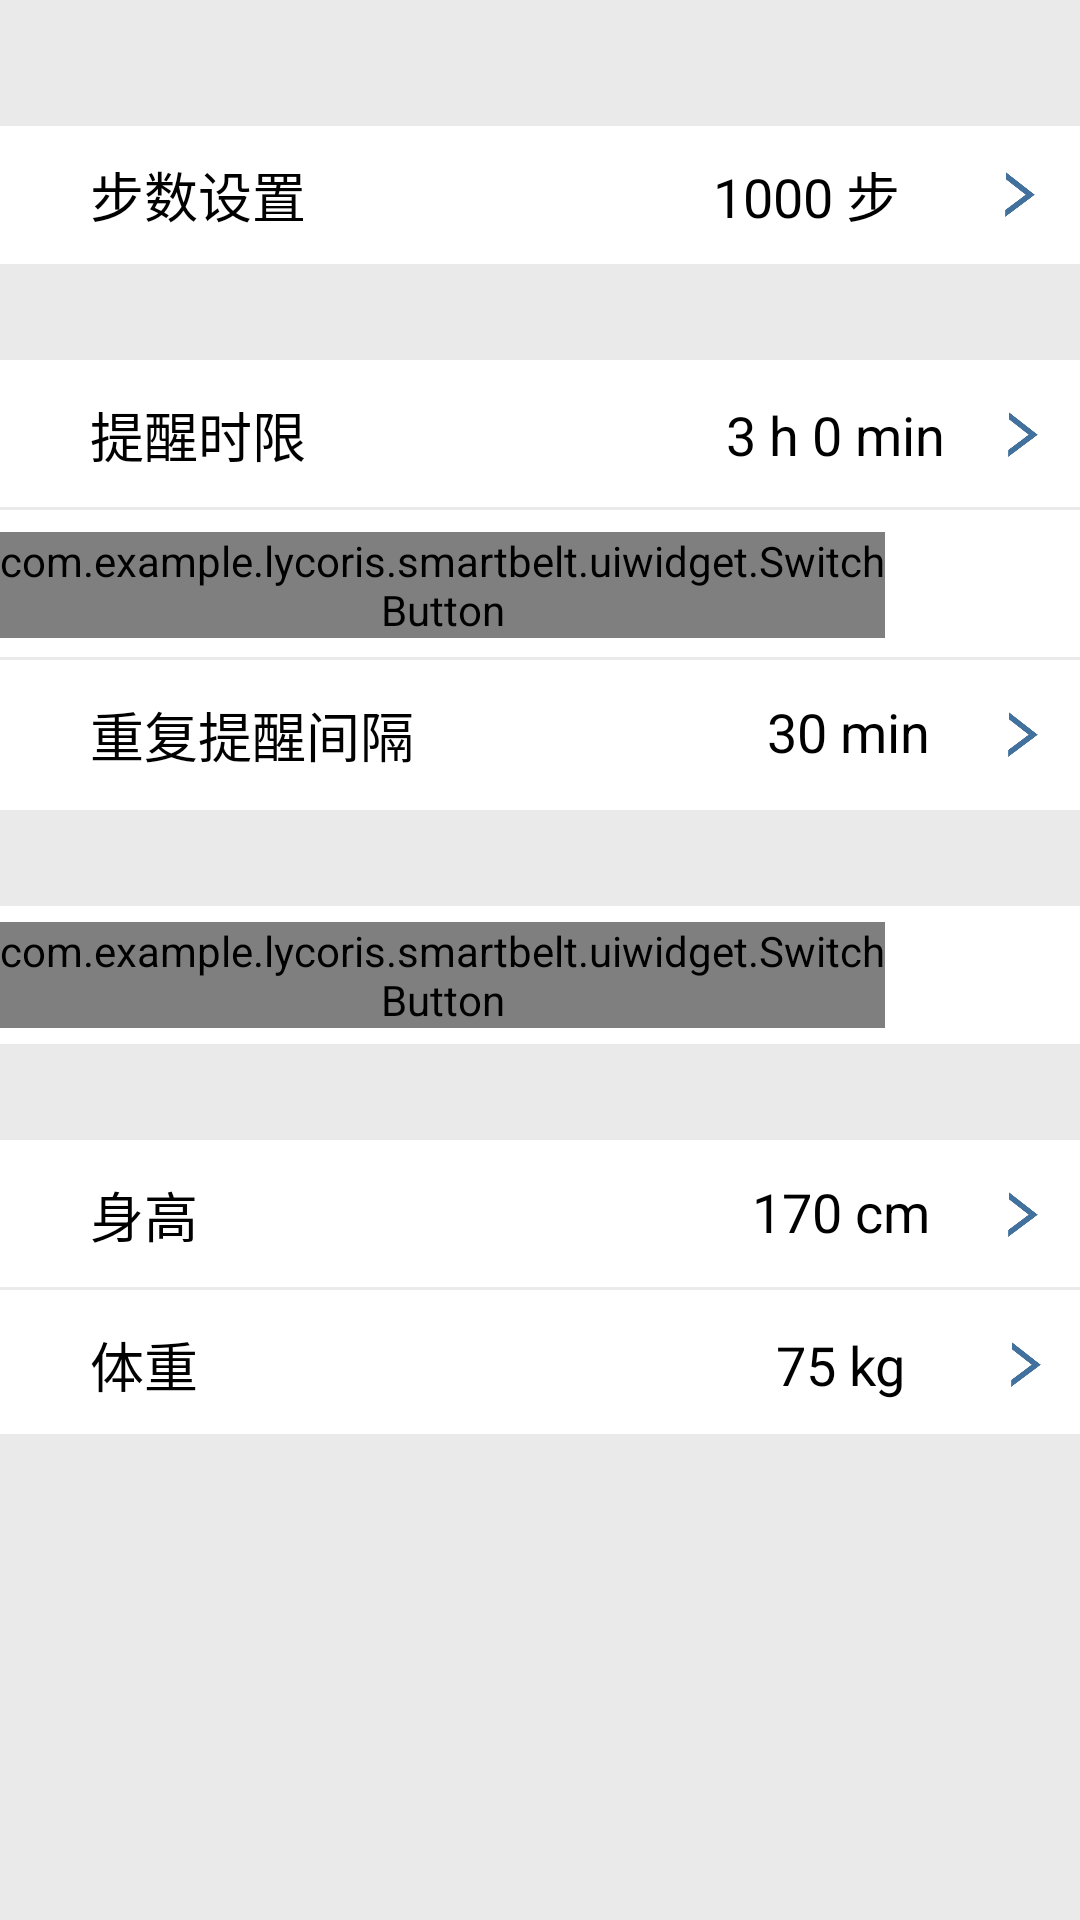

Icons on this 1080x1920 Android screen, each with the point to tap as point (x, y):
right into: point (1020, 194), point (1023, 434), point (1023, 734), point (1023, 1214), point (1026, 1364)
